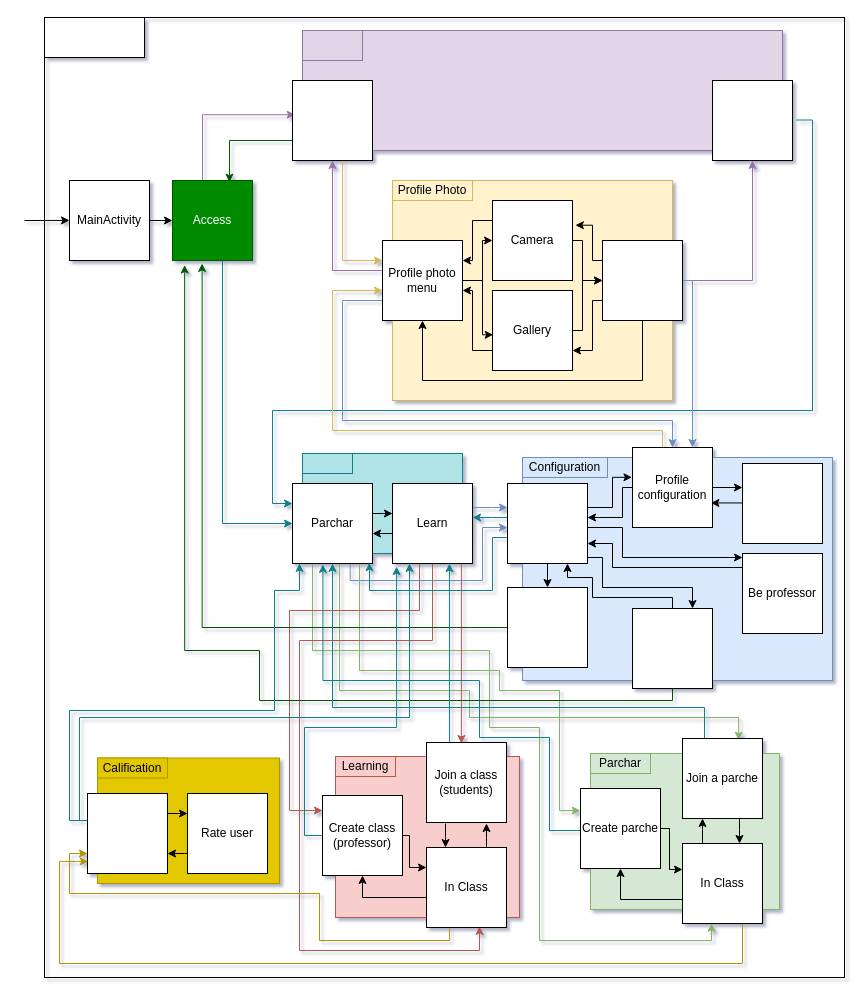
The diagram is 868 pixels wide and 1001 high, and some of its shapes have lost their labels. Here are the shapes that lost their labels. From the top down, the centre of each, then its label:
At [94,37]: "Front-end".
At [332,45]: "Sign Up".
At [332,120]: "Sign Up Information".
At [752,120]: "Successful account creation".
At [642,280]: "Check photo taken".
At [327,463]: "Home".
At [547,523]: "Configuration menu".
At [782,503]: "Edit information account".
At [547,627]: "Sign out".
At [672,648]: "Detele account".
At [127,833]: "Show users".
